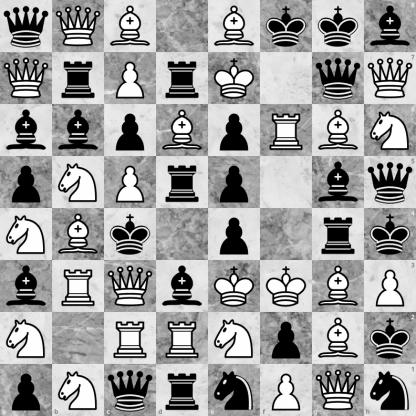B: (53, 209, 104, 260), (105, 1, 156, 52), (157, 105, 208, 156), (209, 1, 260, 52), (313, 105, 364, 156), (313, 261, 364, 312), (313, 313, 364, 364)
K: (209, 53, 260, 104), (209, 261, 260, 312), (261, 261, 312, 312)
N: (52, 364, 104, 416), (364, 104, 416, 156), (1, 209, 52, 260), (1, 313, 52, 364), (53, 157, 104, 208), (209, 313, 260, 364)
P: (260, 364, 312, 416), (364, 260, 416, 312), (105, 53, 156, 104), (105, 157, 156, 208)
Q: (312, 364, 364, 416), (364, 52, 416, 104), (1, 53, 52, 104), (53, 1, 104, 52), (105, 261, 156, 312)
R: (53, 261, 104, 312), (105, 313, 156, 364), (157, 313, 208, 364), (261, 105, 312, 156)
b: (364, 0, 416, 52), (1, 105, 52, 156), (1, 261, 52, 312), (53, 105, 104, 156), (157, 261, 208, 312), (313, 157, 364, 208)
board: (0, 0, 415, 415)
k: (364, 312, 416, 364), (364, 209, 416, 260), (105, 209, 156, 260), (261, 1, 312, 52), (313, 1, 364, 52)
n: (364, 364, 416, 416), (209, 364, 260, 416)
p: (0, 364, 52, 416), (1, 157, 52, 208), (105, 105, 156, 156), (209, 105, 260, 156), (209, 157, 260, 208), (209, 209, 260, 260), (261, 313, 312, 364)
q: (364, 156, 416, 209), (104, 364, 156, 416), (1, 1, 52, 52), (313, 53, 364, 104)
r: (156, 364, 209, 416), (53, 53, 104, 104), (157, 53, 208, 104), (157, 157, 208, 208), (313, 209, 364, 260)
